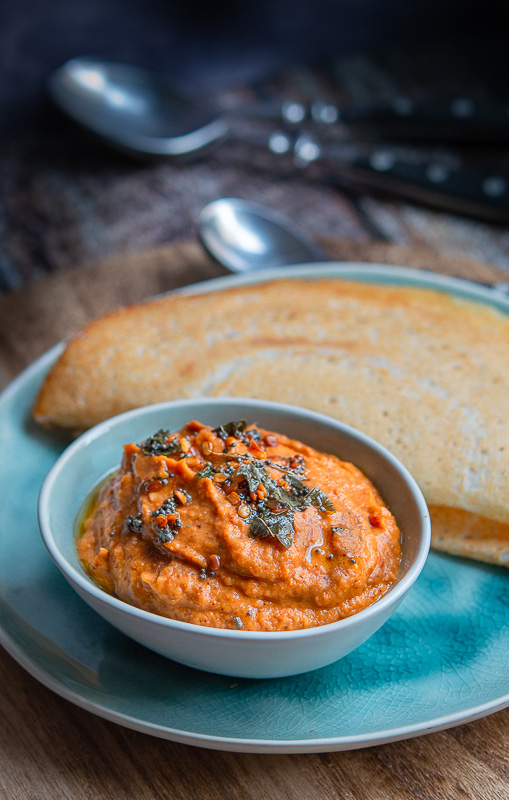dosa: (8, 238, 509, 567)
